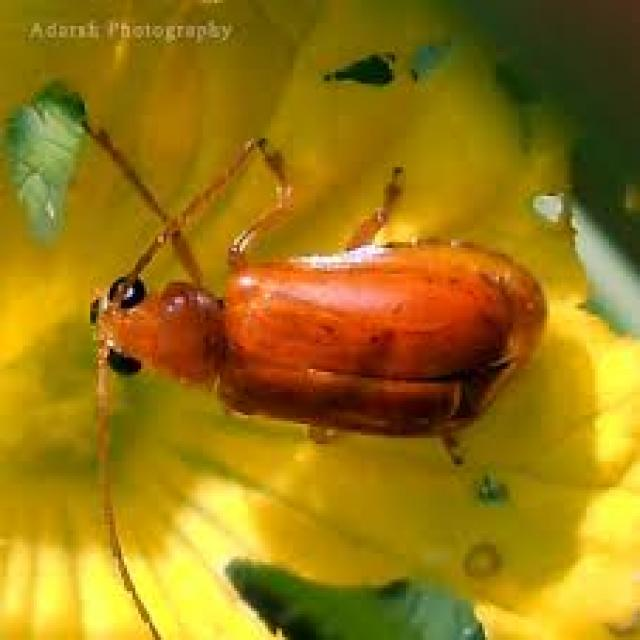Pumpkin Beetle: (64, 98, 570, 640)
